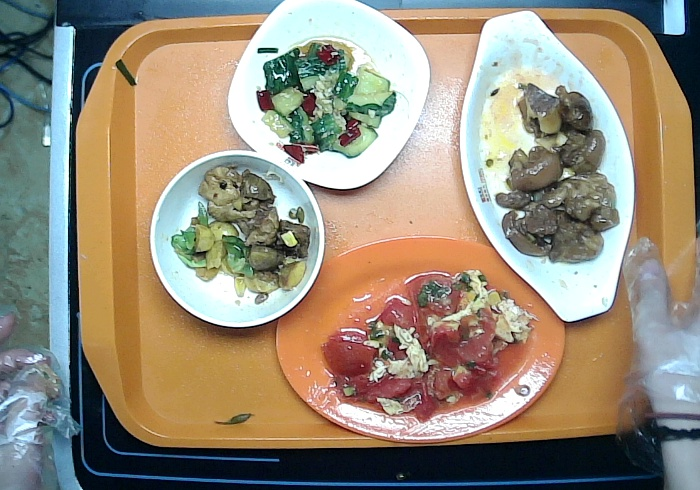NLDX-Bai_Se_Xiao_Fang_Die: (227, 1, 433, 190)
NLDX-Fan_Wan: (149, 149, 326, 329)
NLDX-Ju_Se_Pan: (274, 237, 565, 443)
NLDX-Yu_Pan: (460, 9, 636, 322)
